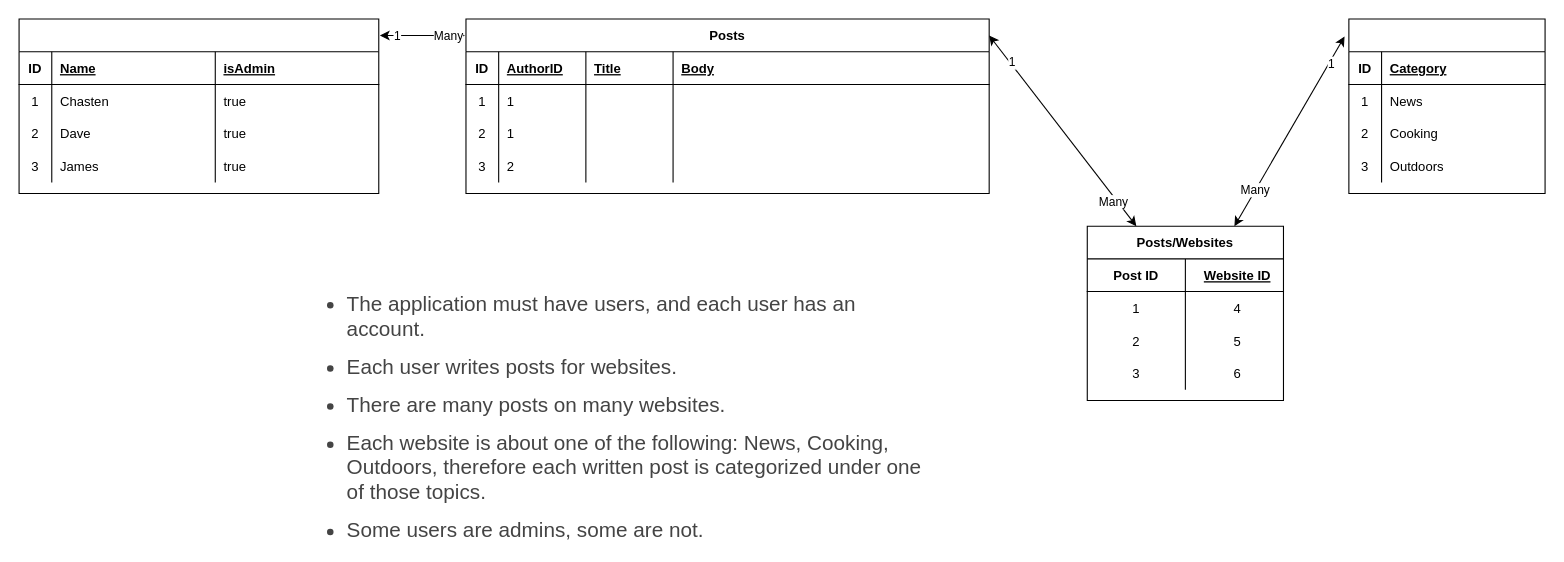
This 1564x562 diagram has some shape labels left out. The box of each missing label's shape, as (x1, y1, x2, y2) in pixels:
Users: (18, 18, 379, 193)
Websites: (1348, 18, 1545, 193)
